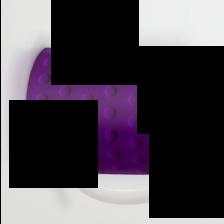purple: (25, 46, 192, 175)
